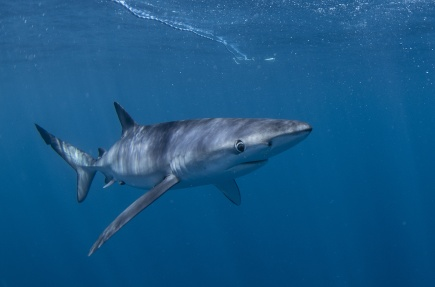Azul: (19, 87, 322, 259)
